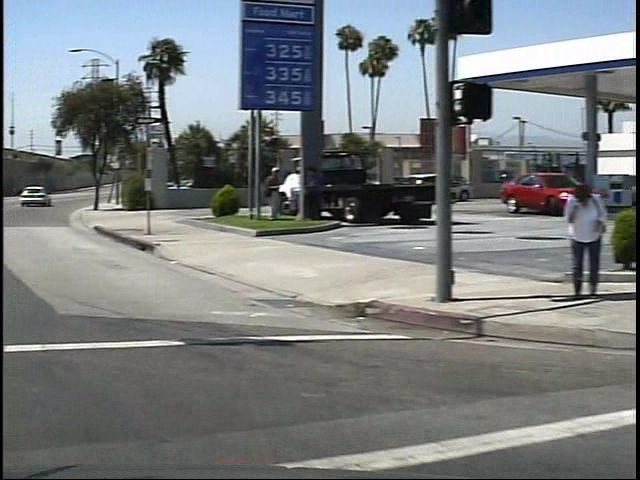person: (547, 177, 594, 301), (255, 167, 279, 228)
